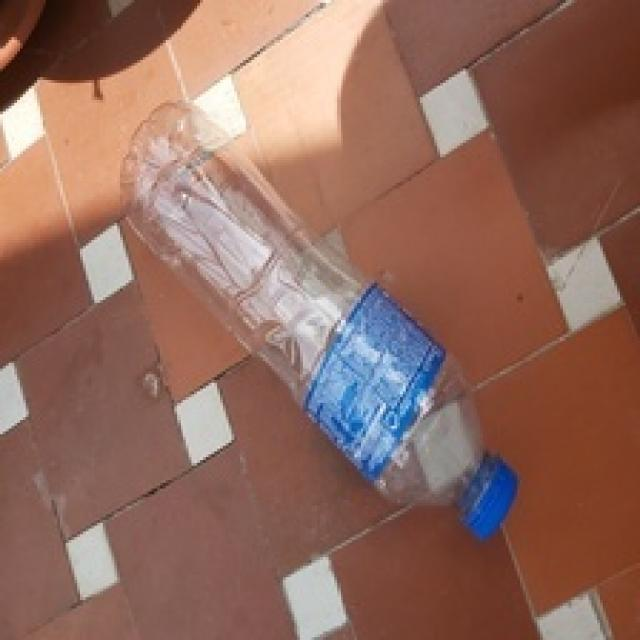Plastic: (119, 96, 523, 544)
